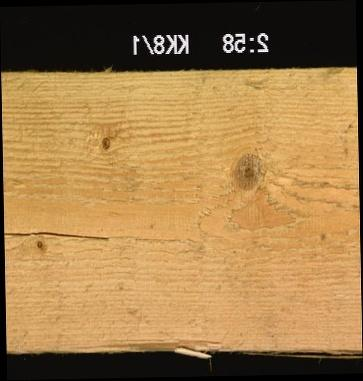dry_knot: (100, 135, 112, 150), (34, 238, 44, 248)
sound_knot: (234, 150, 262, 191)
split: (3, 229, 110, 240)
wave: (56, 338, 223, 361)
